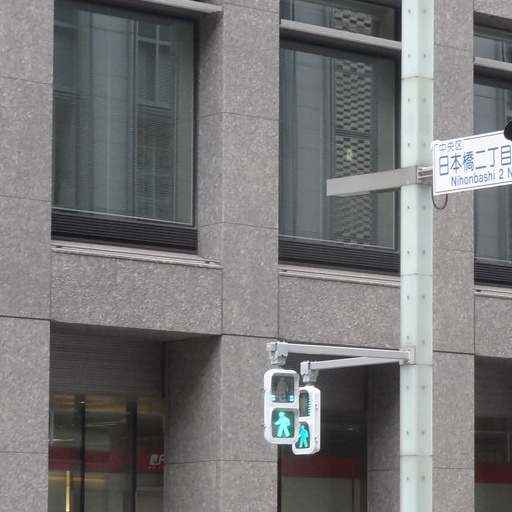Pedestrian_Signal_Blue: (264, 369, 301, 442), (289, 382, 321, 452)
